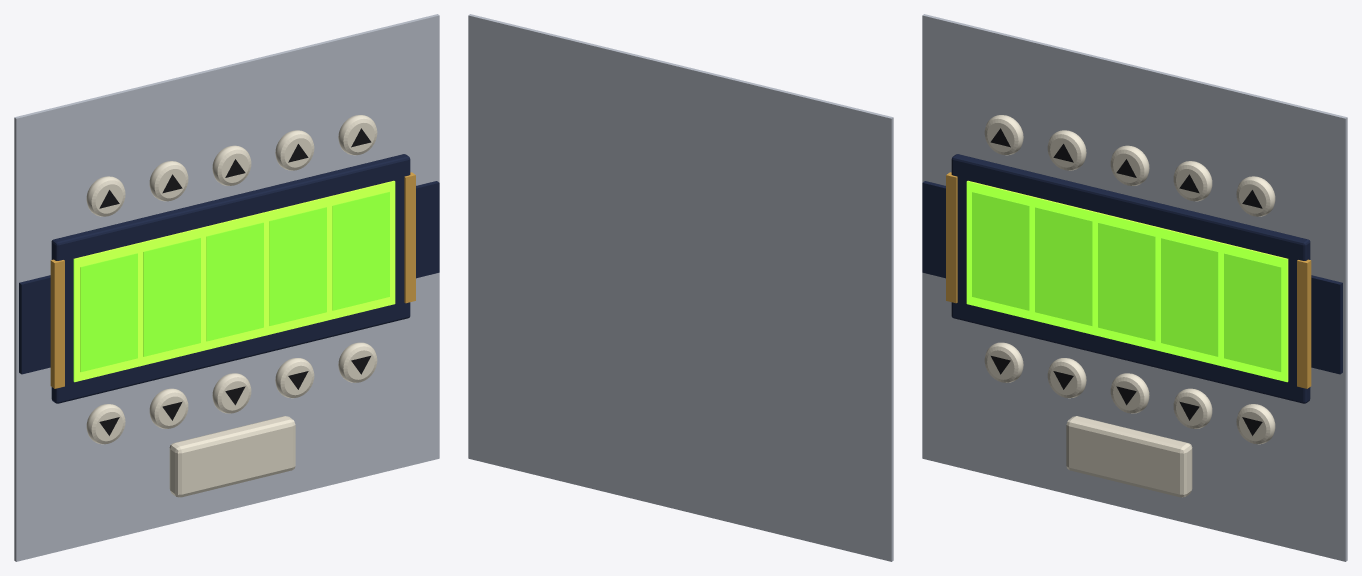
The model's file is password_module.glb.
3 renders of one model, left to right at view 1: azimuth 30°, elevation 25°; view 2: azimuth 150°, elevation 25°; view 3: azimuth 330°, elevation 25°, orthographic.
Parts seen in each view (by area): view 1: pw_plate, pw_frame, pw_screen, part_pw_submit, pw_cell_4, pw_cell_1, pw_cell_0, pw_cell_2, pw_cell_3, pw_tab_l, pw_tab_r, pw_strip_l (+11 smaller); view 2: pw_plate; view 3: pw_plate, pw_frame, pw_screen, part_pw_submit, pw_cell_0, pw_cell_3, pw_cell_1, pw_cell_2, pw_cell_4, pw_tab_r, pw_tab_l, pw_strip_r (+11 smaller).
Part boxes in pixels (x1,y1,x2,y2): pw_plate: [14, 14, 439, 561]; pw_frame: [51, 154, 410, 403]; pw_screen: [73, 180, 395, 382]; part_pw_submit: [169, 416, 295, 497]; pw_cell_4: [332, 191, 389, 310]; pw_cell_1: [143, 238, 200, 356]; pw_cell_0: [80, 253, 137, 371]; pw_cell_2: [206, 222, 263, 341]; pw_cell_3: [269, 207, 326, 325]; pw_tab_l: [19, 275, 50, 374]; pw_tab_r: [416, 181, 439, 278]; pw_strip_l: [50, 259, 64, 388]; pw_plate: [468, 14, 893, 561]; pw_plate: [922, 14, 1347, 561]; pw_frame: [951, 154, 1310, 403]; pw_screen: [966, 180, 1288, 382]; part_pw_submit: [1066, 416, 1192, 497]; pw_cell_0: [972, 191, 1029, 310]; pw_cell_3: [1161, 238, 1218, 356]; pw_cell_1: [1035, 207, 1092, 325]; pw_cell_2: [1098, 222, 1155, 341]; pw_cell_4: [1224, 253, 1281, 371]; pw_tab_r: [1311, 275, 1342, 374]; pw_tab_l: [922, 181, 945, 278]; pw_strip_r: [1297, 259, 1311, 388].
Bounding box in the file's own units: 0.74 × 0.74 × 0.035.
